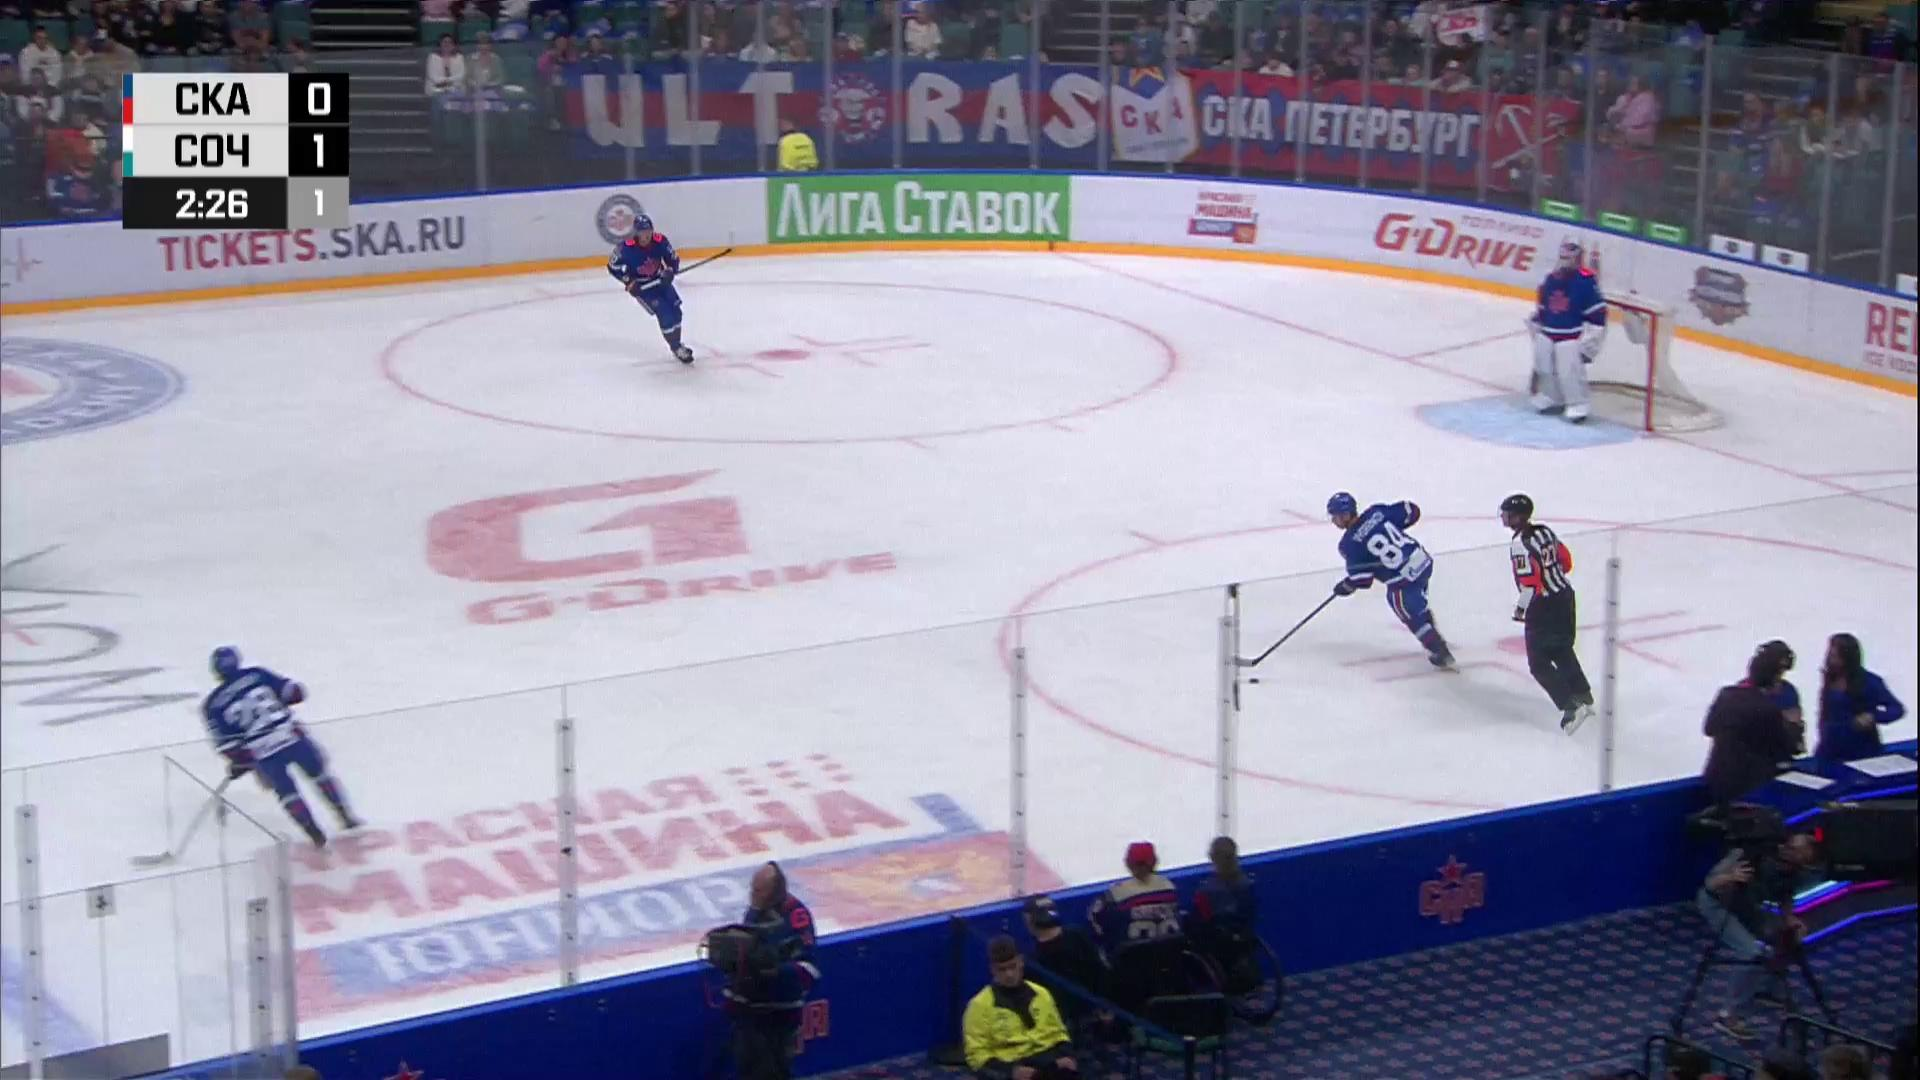ball: (1247, 678, 1261, 684)
